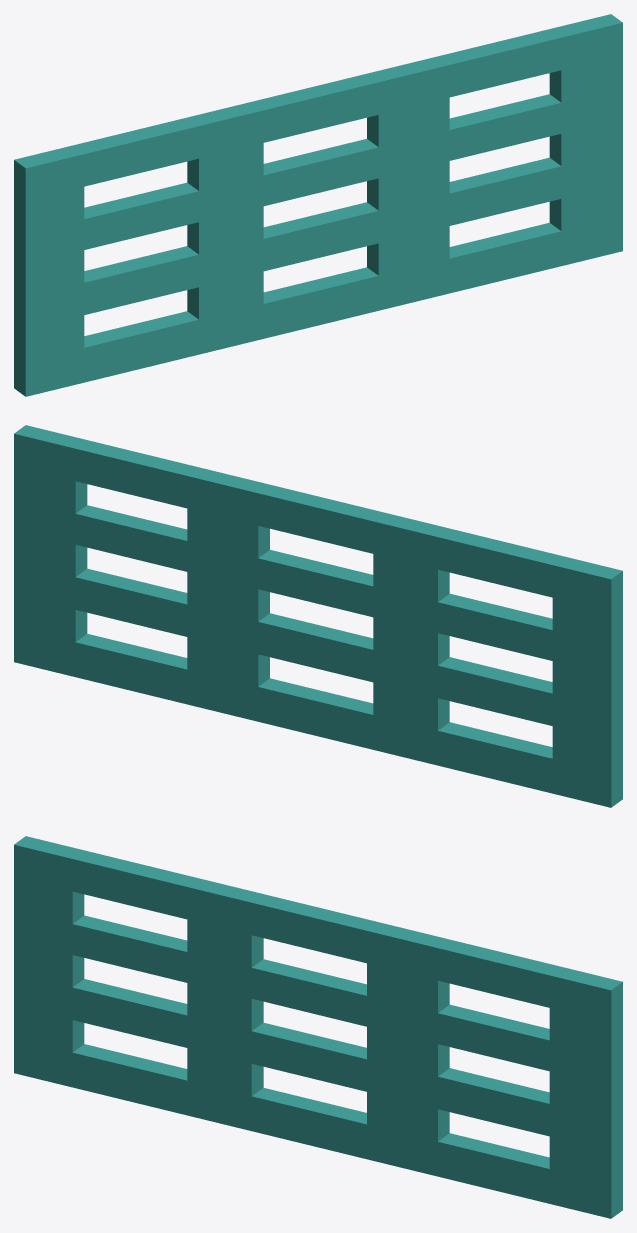
File: Vent_1.fbx
3 renders of one model, top to bottom at view 1: azimuth 30°, elevation 25°; view 2: azimuth 150°, elevation 25°; view 3: azimuth 330°, elevation 25°, orthographic.
Parts seen in each view (by area): view 1: Vent_1; view 2: Vent_1; view 3: Vent_1.
Boxes of the visible parts, x1,y1,x2,y2 form: Vent_1: [14, 14, 622, 396]; Vent_1: [14, 425, 622, 807]; Vent_1: [14, 836, 622, 1218].
Size of the model in its own units: 37.84 by 13.84 by 1.3.
